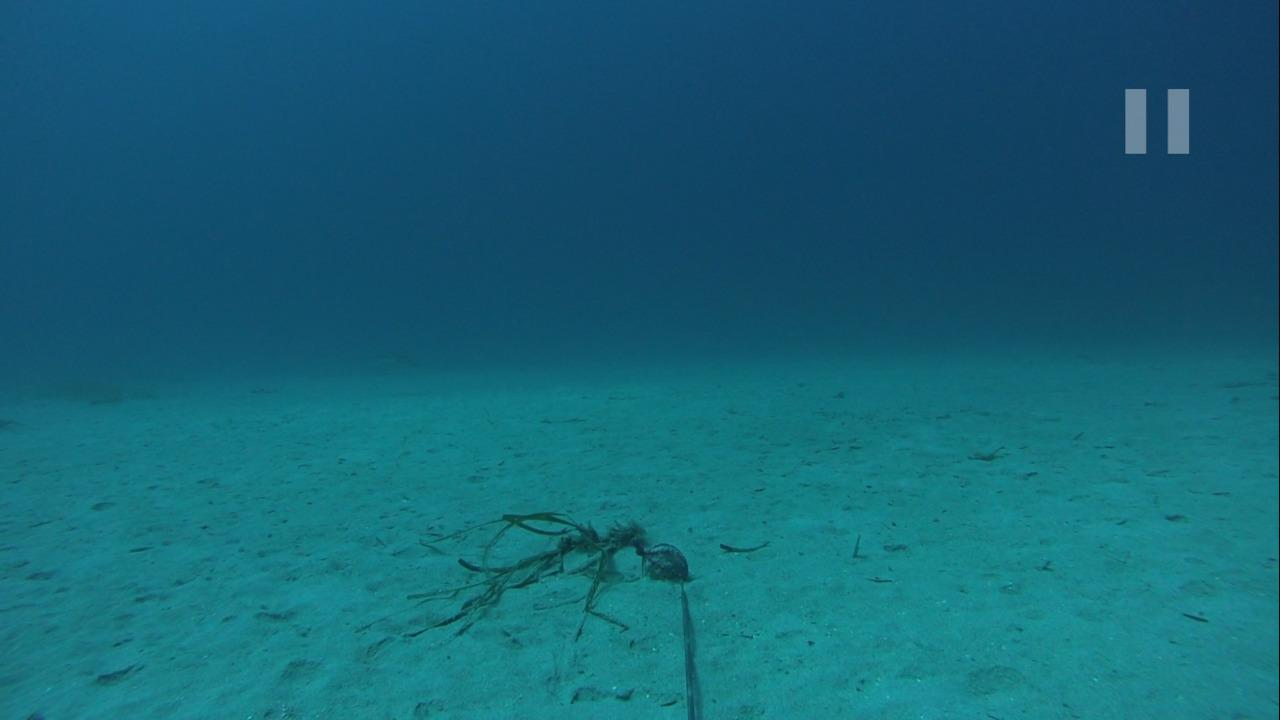myliobatis: (258, 339, 436, 382)
